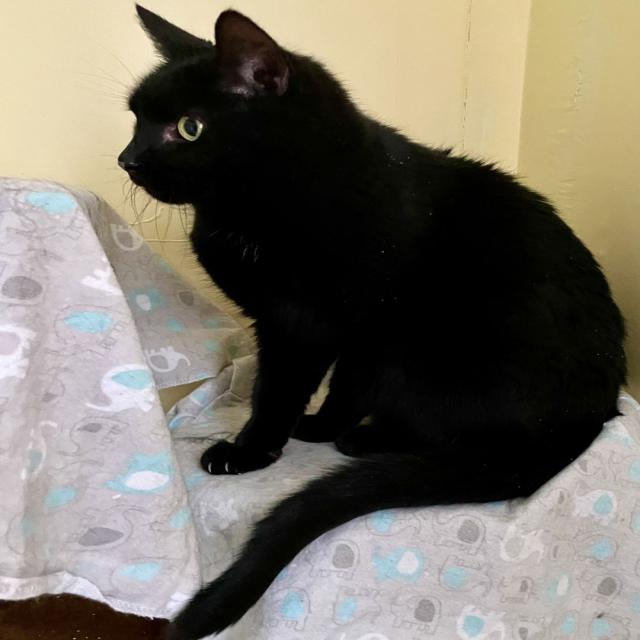bombay_cat: (114, 2, 358, 226)
